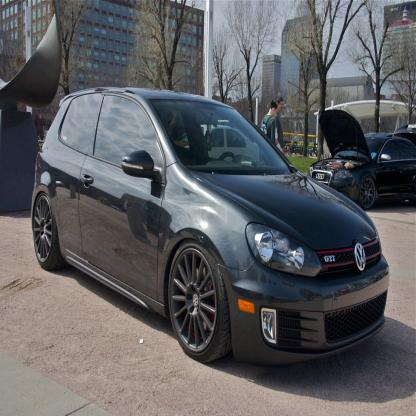Car: (31, 91, 393, 370), (308, 108, 416, 214)
